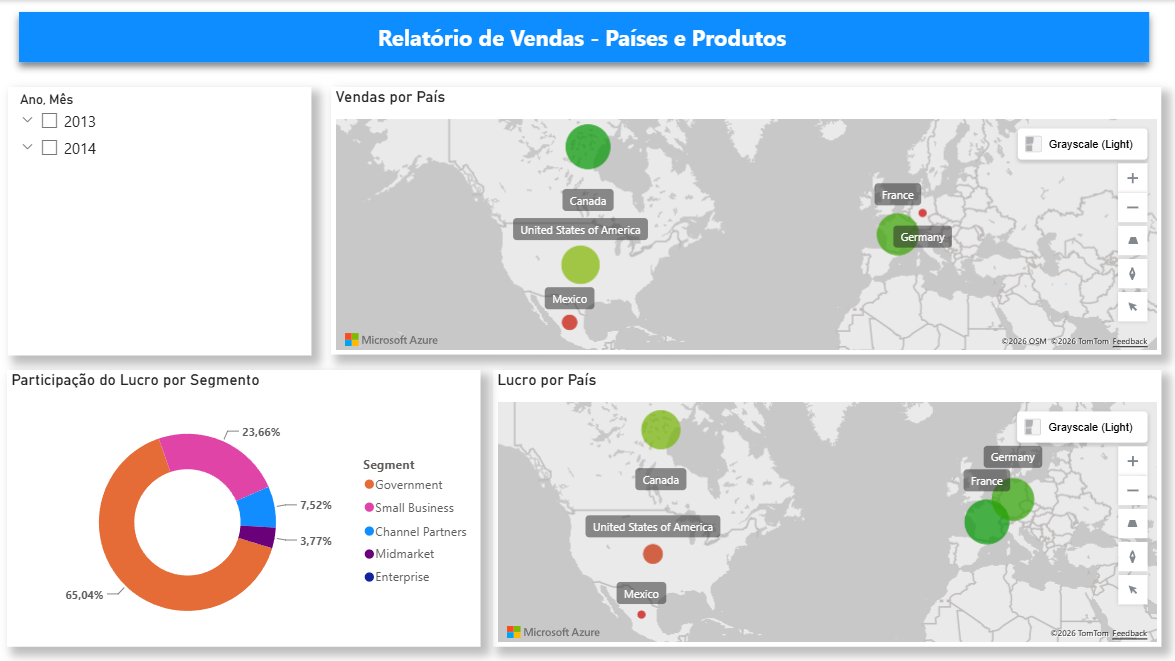

This screenshot's page, from the dashboard's own definition file:
{"tool":"powerbi","page":{"name":"Países","canvas":[1280,720],"ordinal":2},"visuals":[{"type":"slicer","fields":{"Values":["financials.Date.Variation.Hierarquia de datas.Ano","financials.Date.Variation.Hierarquia de datas.Mês"]},"box":[9.3,94.1,329.9,291.5],"z":0},{"type":"shape","box":[9.1,0,1255.3,80.7],"z":1000},{"type":"textbox","box":[139.2,18.2,989.9,46.8],"z":2000},{"type":"azureMap","title":"Vendas por País","fields":{"Category":["financials.Country"],"Size":["Sum(financials.Units Sold)"]},"box":[361,95.1,903,291.1],"z":2001},{"type":"azureMap","title":"Lucro por País","fields":{"Category":["financials.Country"],"Size":["Sum(financials.Profit (lucro))"]},"box":[537.4,402.2,726.5,301.4],"z":2002},{"type":"donutChart","title":"Participação do Lucro por Segmento","fields":{"Category":["financials.Segment"],"Y":["Sum(financials.Profit (lucro))"]},"box":[9.2,402.2,514.5,301.4],"z":2003}]}

Visuals, with their boxes in screenshot pixels (x1, y1, x2, y2), scaled from the page's 1280x720 canvas onto the 1175x661 screenshot:
slicer - financials.Date.Variation.Hierarquia de datas.Ano x financials.Date.Variation.Hierarquia de datas.Mês: {"left": 9, "top": 86, "right": 311, "bottom": 354}
shape: {"left": 8, "top": 0, "right": 1161, "bottom": 74}
textbox: {"left": 128, "top": 17, "right": 1036, "bottom": 60}
"Vendas por País" azureMap: {"left": 331, "top": 87, "right": 1160, "bottom": 355}
"Lucro por País" azureMap: {"left": 493, "top": 369, "right": 1160, "bottom": 646}
"Participação do Lucro por Segmento" donutChart: {"left": 8, "top": 369, "right": 481, "bottom": 646}
